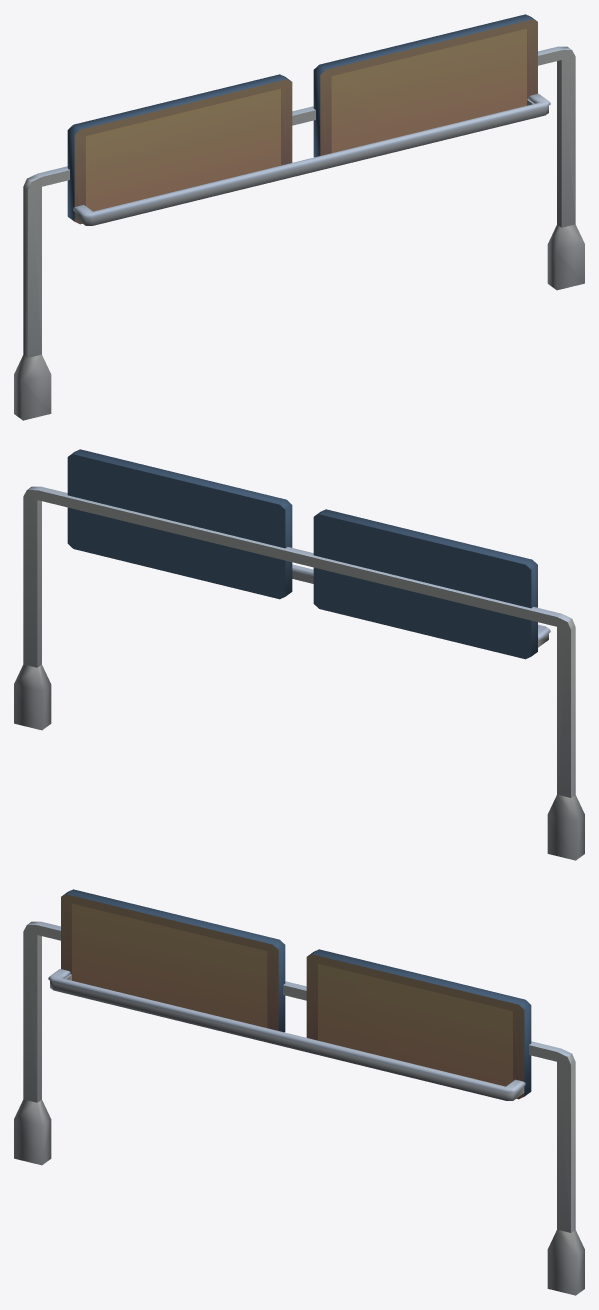
The model's file is gantry_sign.glb.
The picture shows the model from 3 angles, top to bottom: view 1: azimuth 30°, elevation 25°; view 2: azimuth 150°, elevation 25°; view 3: azimuth 330°, elevation 25°; orthographic projection.
Parts seen in each view (by area): view 1: Prop, Panel_0, Panel_1; view 2: Panel_1, Panel_0, Prop; view 3: Prop, Panel_1, Panel_0.
Boxes of the visible parts, x1,y1,x2,y2 form: Prop: [14, 19, 584, 420]; Panel_0: [67, 74, 291, 221]; Panel_1: [313, 14, 536, 157]; Panel_1: [67, 449, 292, 599]; Panel_0: [313, 509, 537, 659]; Prop: [14, 486, 584, 860]; Prop: [14, 894, 584, 1295]; Panel_1: [307, 949, 531, 1096]; Panel_0: [62, 889, 285, 1032].
Size of the model in its own units: 16 by 7.6 by 1.2.
